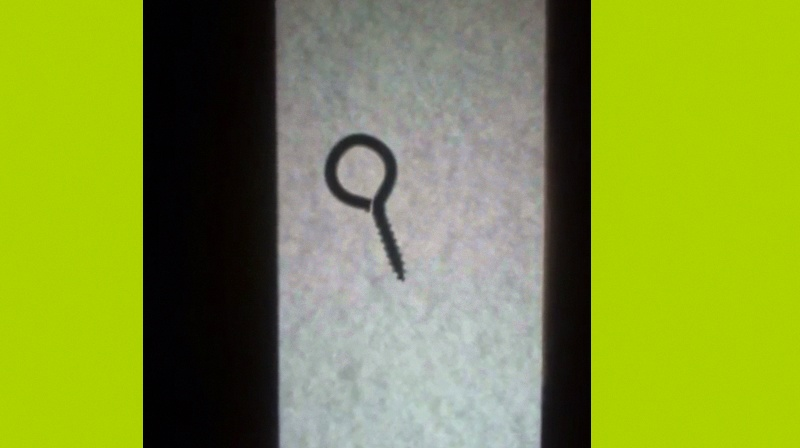O001: (320, 129, 409, 285)
